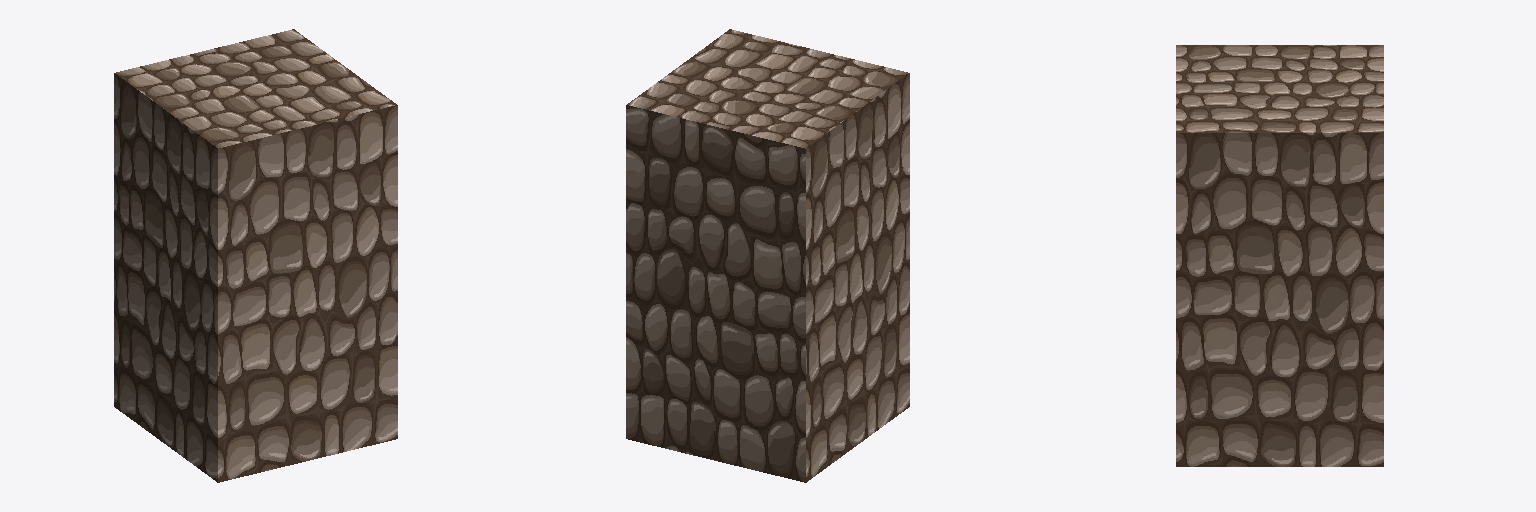
The picture shows the model from 3 angles: view 1: azimuth 30°, elevation 25°; view 2: azimuth 150°, elevation 25°; view 3: azimuth 270°, elevation 25°; orthographic projection.
Parts seen in each view (by area): view 1: Cube; view 2: Cube; view 3: Cube.
Boxes of the visible parts, <box> form: Cube: <box>114,29,397,482</box>; Cube: <box>626,29,909,482</box>; Cube: <box>1176,45,1383,466</box>.
Bounding box in the file's own units: 5 × 8.9 × 5.
1 materials, 1 textured.